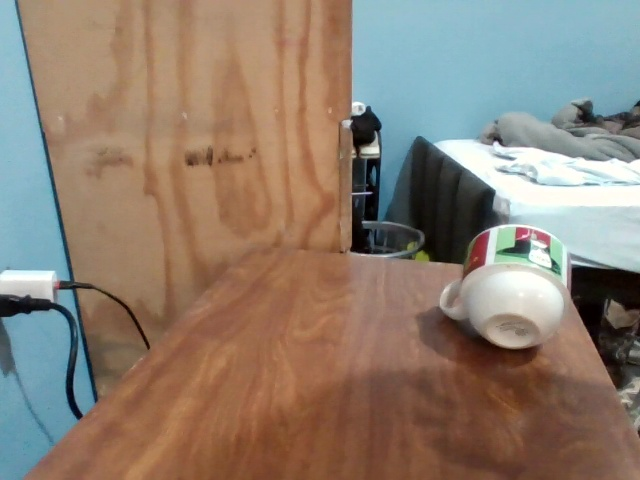taza: (451, 220, 572, 349)
